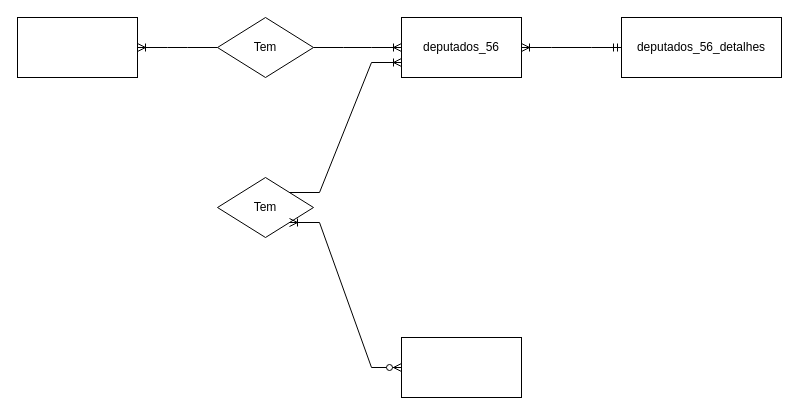
Some shapes in this 799 by 415 pixel diagram are drawn without their labels. The shapes that lost their labels are listed below. From the top down, each one's centre as x and y in pixels, then its label:
At (77,47): "partidos".
At (461,367): "despesas".
